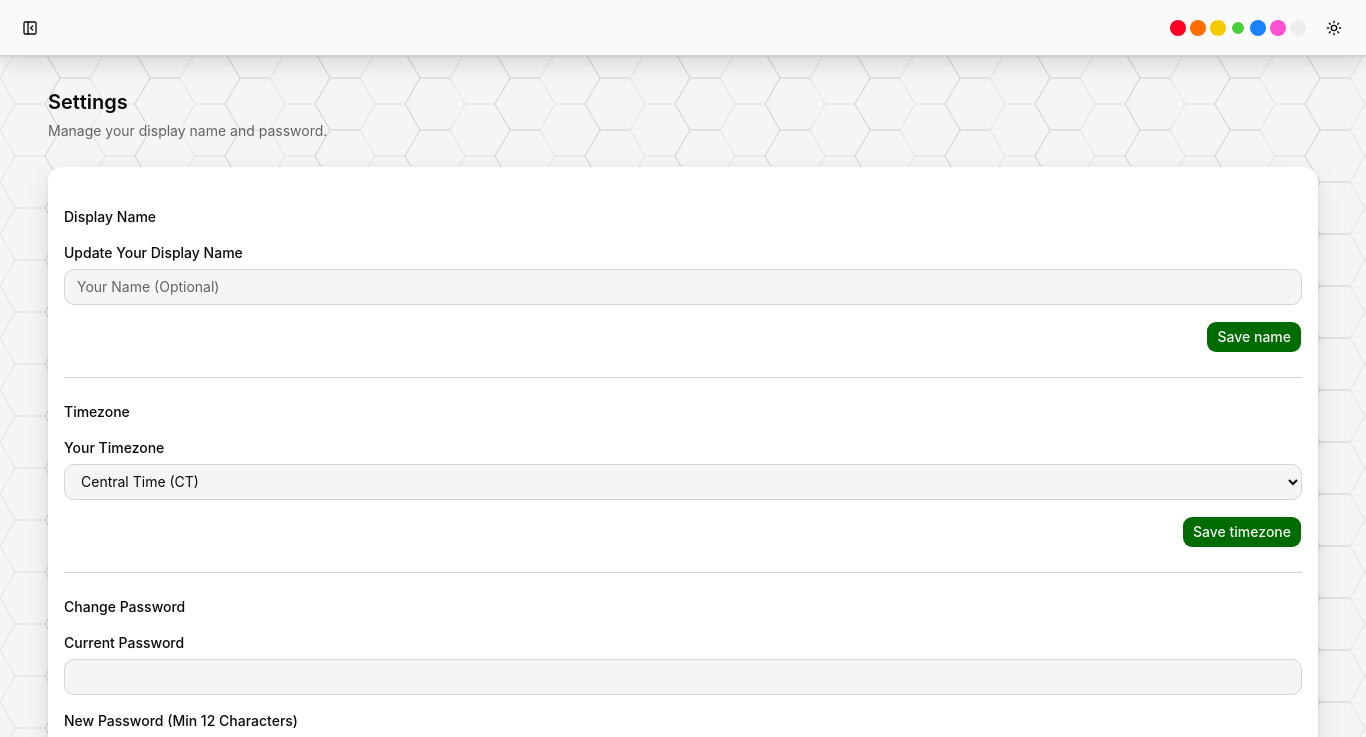
Test: ChangePasswordPage — Timezone › shows success message after saving timezone
The image size is (1366, 737).
Click the button "Save timezone".
click(1242, 532)  # box x1=1182 y1=516 x2=1302 y2=548
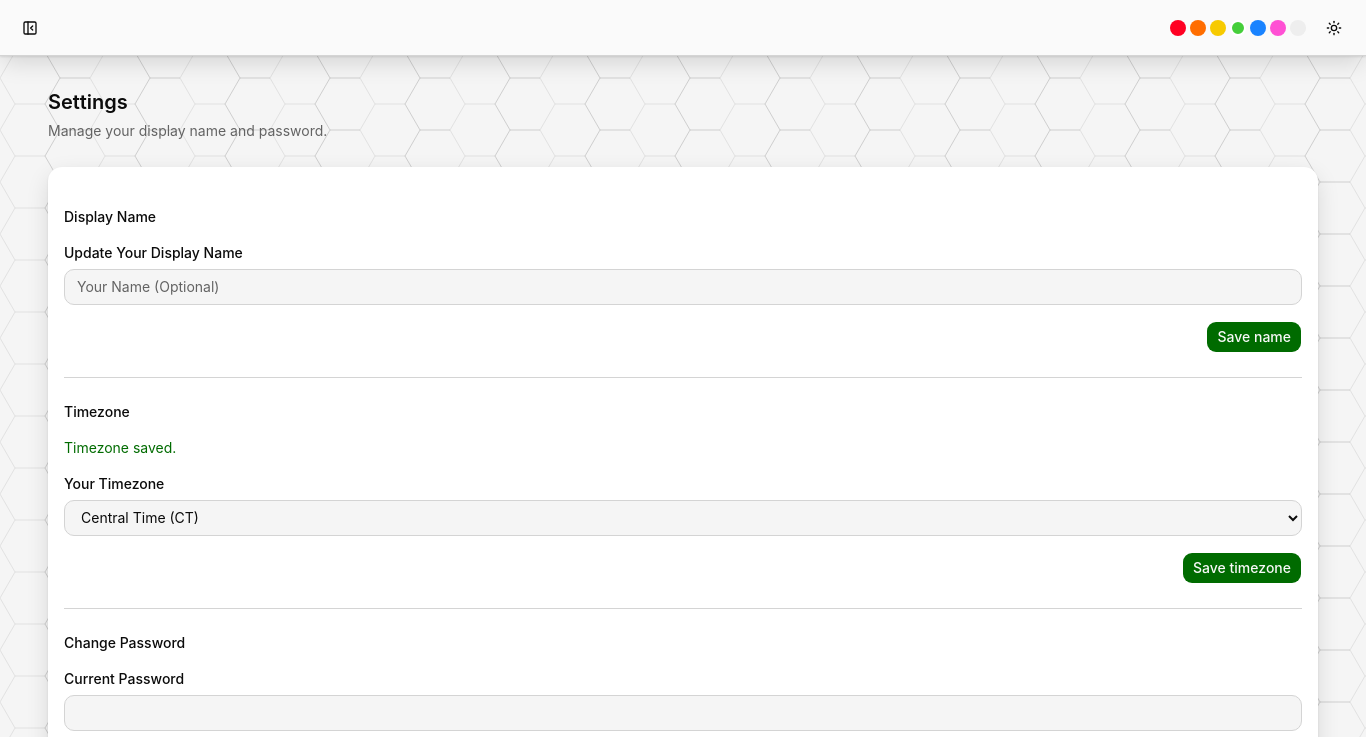
Check: the message "Timezone saved." is shown, box x1=64 y1=439 x2=176 y2=456
